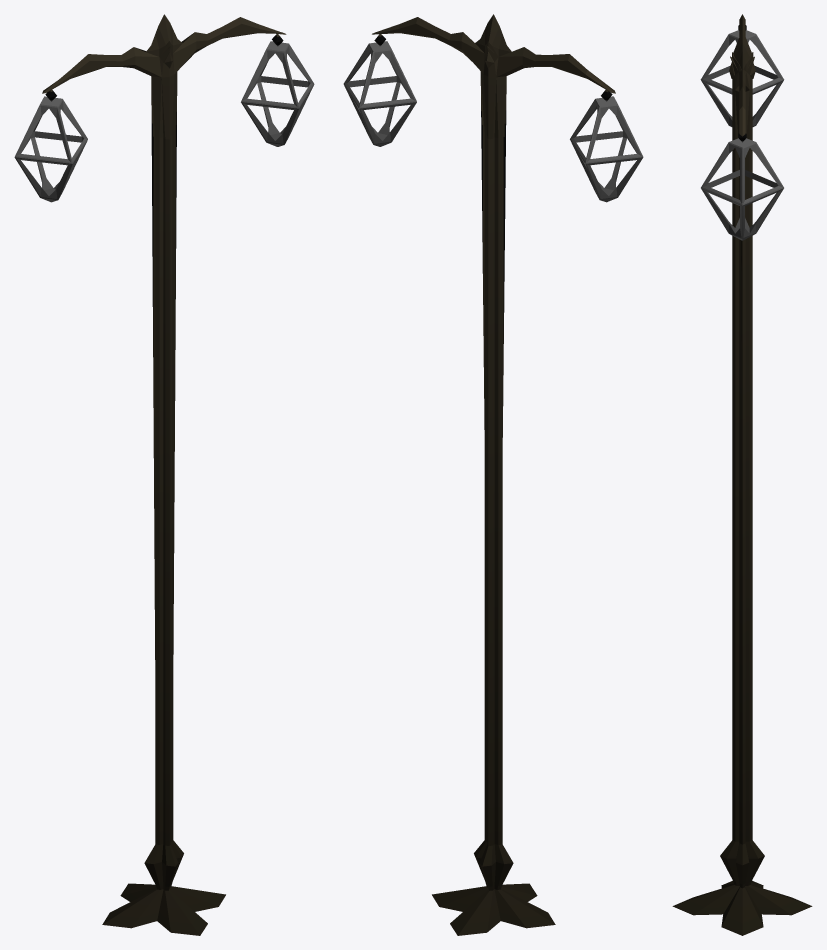
The model's file is ruraltown_street_lamp_double.fbx.
3 views of the same model, side by side, from view 1: azimuth 30°, elevation 25°; view 2: azimuth 150°, elevation 25°; view 3: azimuth 270°, elevation 25° (orthographic). The views are drawn at different scales.
Parts seen in each view (by area): view 1: DoubleLamp; view 2: DoubleLamp; view 3: DoubleLamp.
Boxes of the visible parts, x1,y1,x2,y2 form: DoubleLamp: [14, 14, 314, 935]; DoubleLamp: [343, 14, 643, 935]; DoubleLamp: [672, 14, 812, 935].
Bounding box in the file's own units: 106 × 302 × 43.87.
